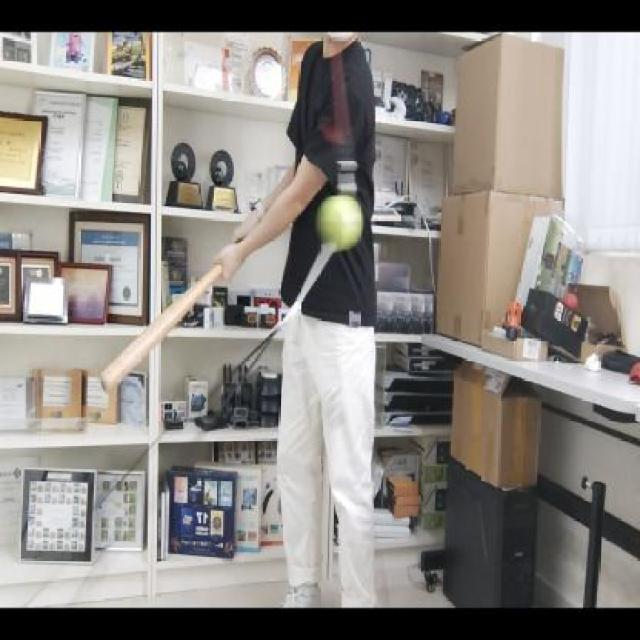baseball: (319, 198, 364, 252)
